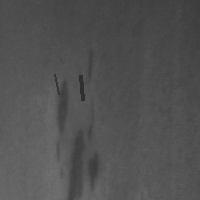inclusion: (61, 94, 102, 198), (53, 73, 74, 139), (81, 43, 97, 89), (52, 72, 60, 96), (78, 73, 84, 102)
